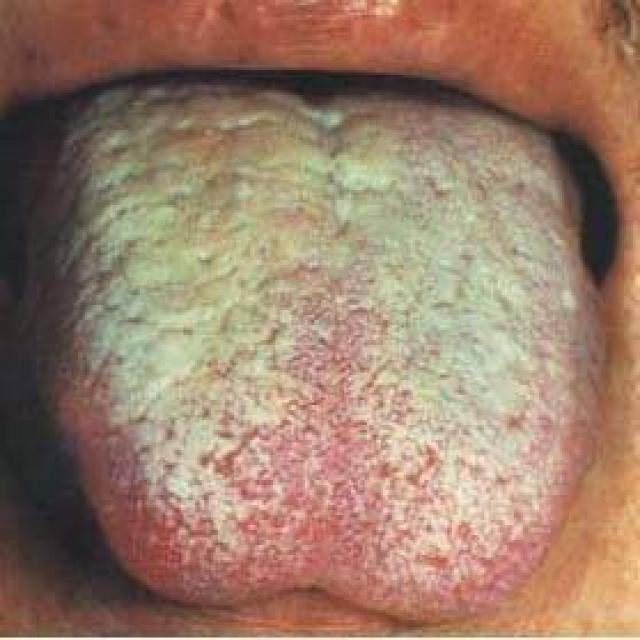tongue: (22, 84, 601, 624)
